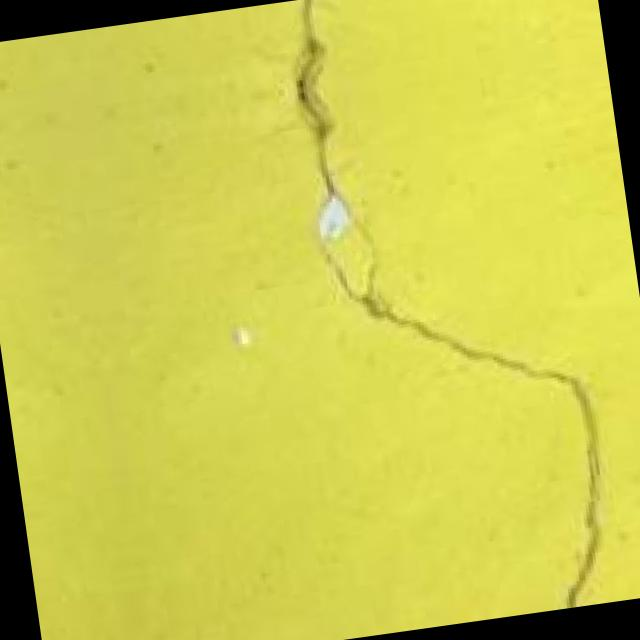crack: (251, 0, 636, 637)
